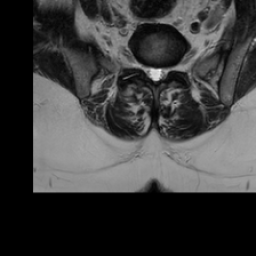CCS_stenosis: (152, 55, 161, 91)
LFS_normal: (168, 54, 176, 79)
LLS_normal: (161, 56, 168, 86)
RFS_normal: (135, 50, 143, 79)
RLS_normal: (143, 54, 152, 87)
